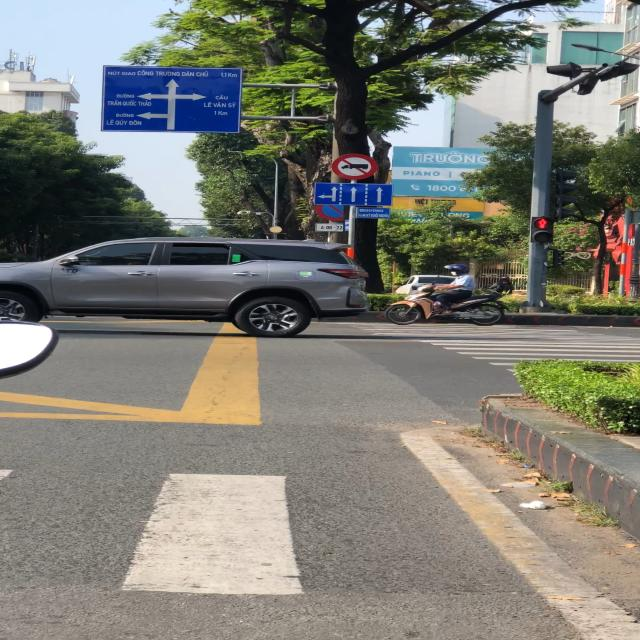Bien bao cam xe so-mi ro-mooc: (330, 152, 385, 183)
